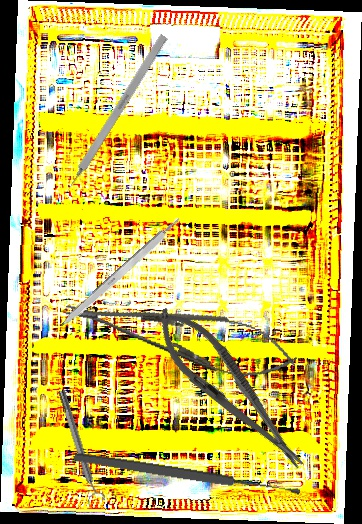Fixation Ring: (53, 387, 106, 506)
Hook Surgical: (57, 33, 169, 204)
Needle Holder: (141, 295, 319, 484), (59, 281, 303, 389)
Scalpel Handle: (57, 215, 185, 332)
Surgical Spoon: (73, 450, 301, 499)
